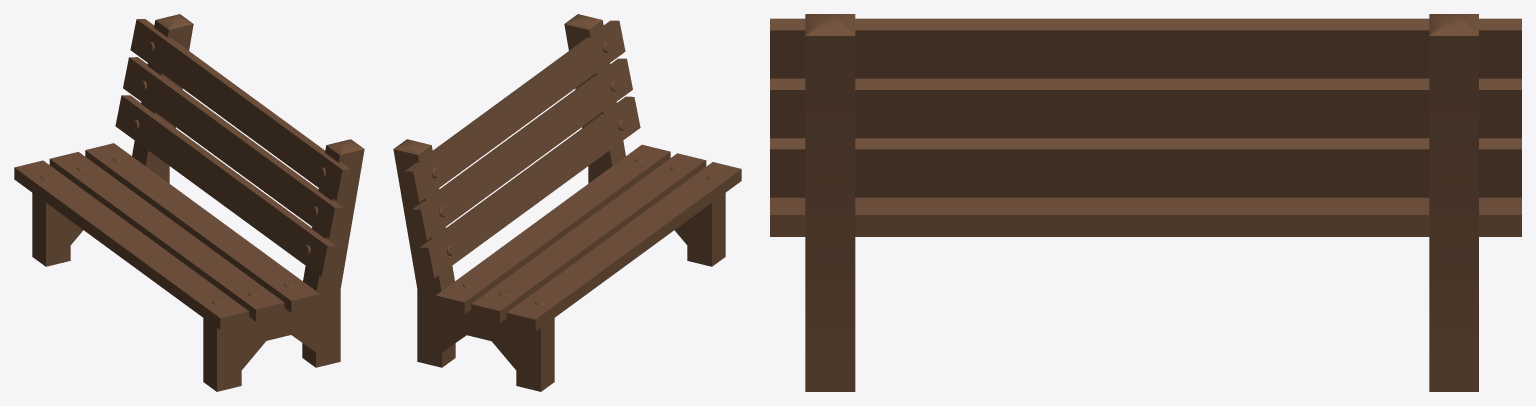
File: bench.fbx
3 views of the same model, side by side, from view 1: azimuth 30°, elevation 25°; view 2: azimuth 150°, elevation 25°; view 3: azimuth 270°, elevation 25° (orthographic). The views are drawn at different scales.
Visible parts, largest first — view 1: Cube; view 2: Cube; view 3: Cube.
Boxes of the visible parts, x1,y1,x2,y2 form: Cube: [14, 14, 364, 391]; Cube: [393, 14, 741, 391]; Cube: [770, 14, 1521, 391].
Bounding box in the file's own units: 249 × 325 × 577.
